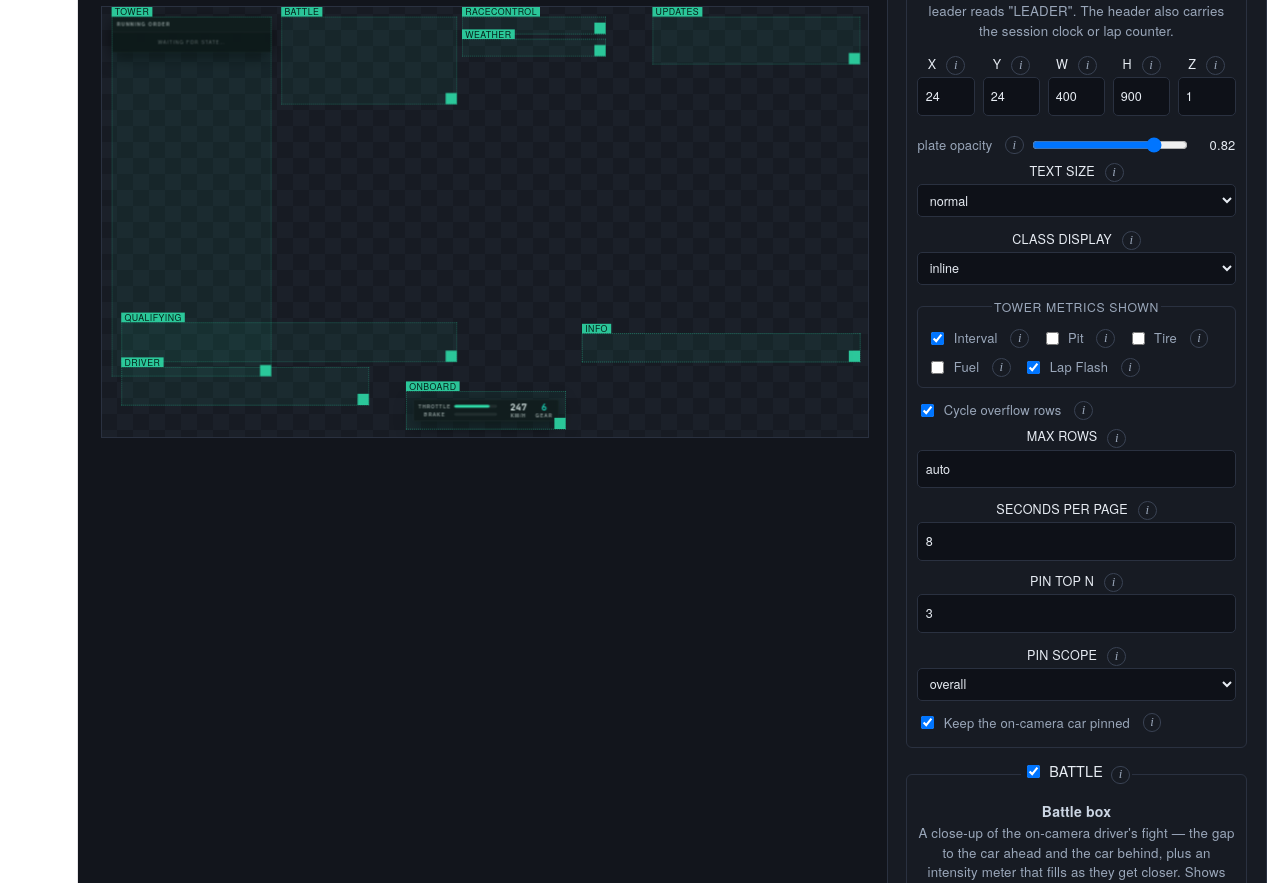
it: config editor: help popovers › keeps help hidden until asked, then reveals the exact copy
(page scrolled)
Click the button with test id "help-max-rows-tower" at {"x": 1117, "y": 438}, box [1107,429,1126,448]
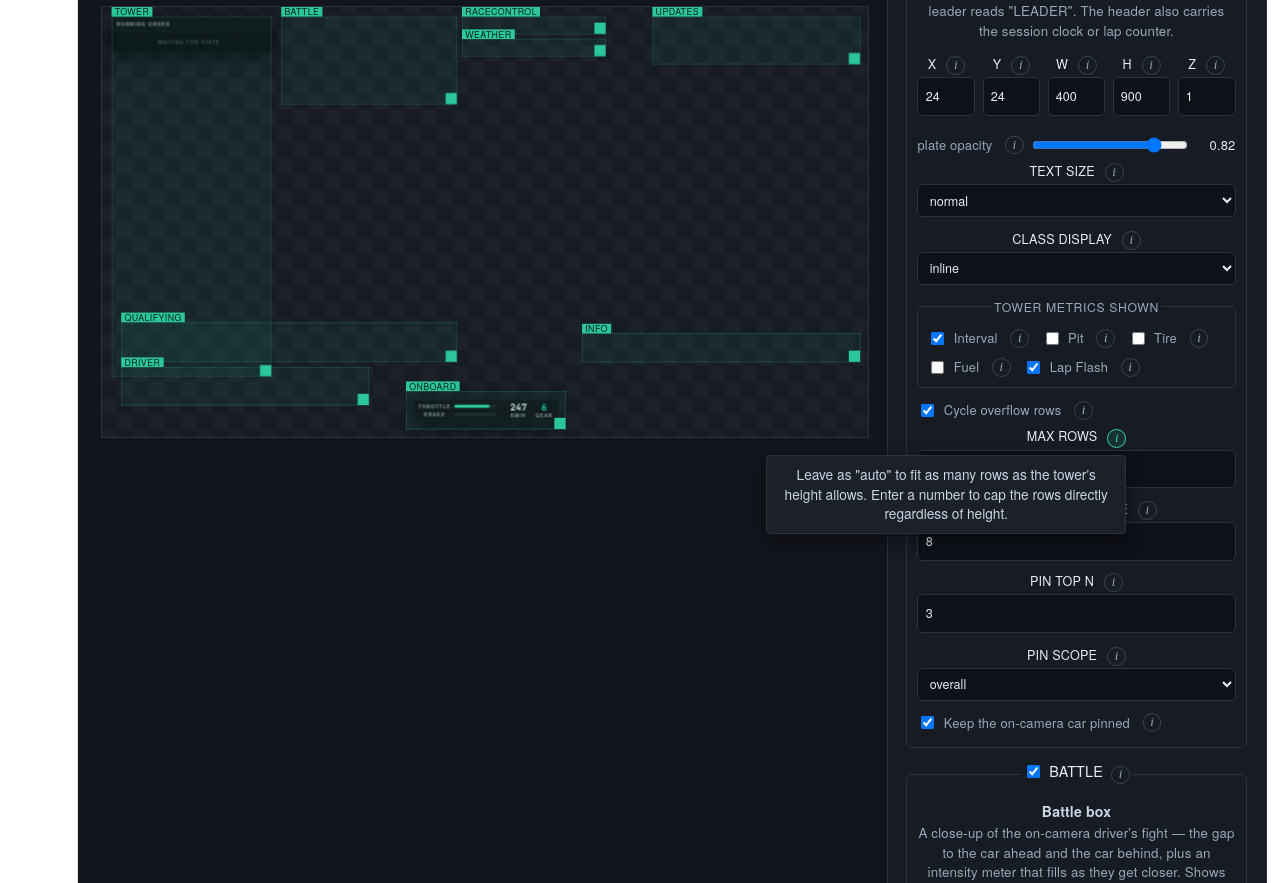
Check: the tooltip with test id "help-max-rows-tower-text" is shown, box [766,455,1126,534]
Check: the button with test id "help-max-rows-tower" is expanded, box [1107,429,1126,448]
